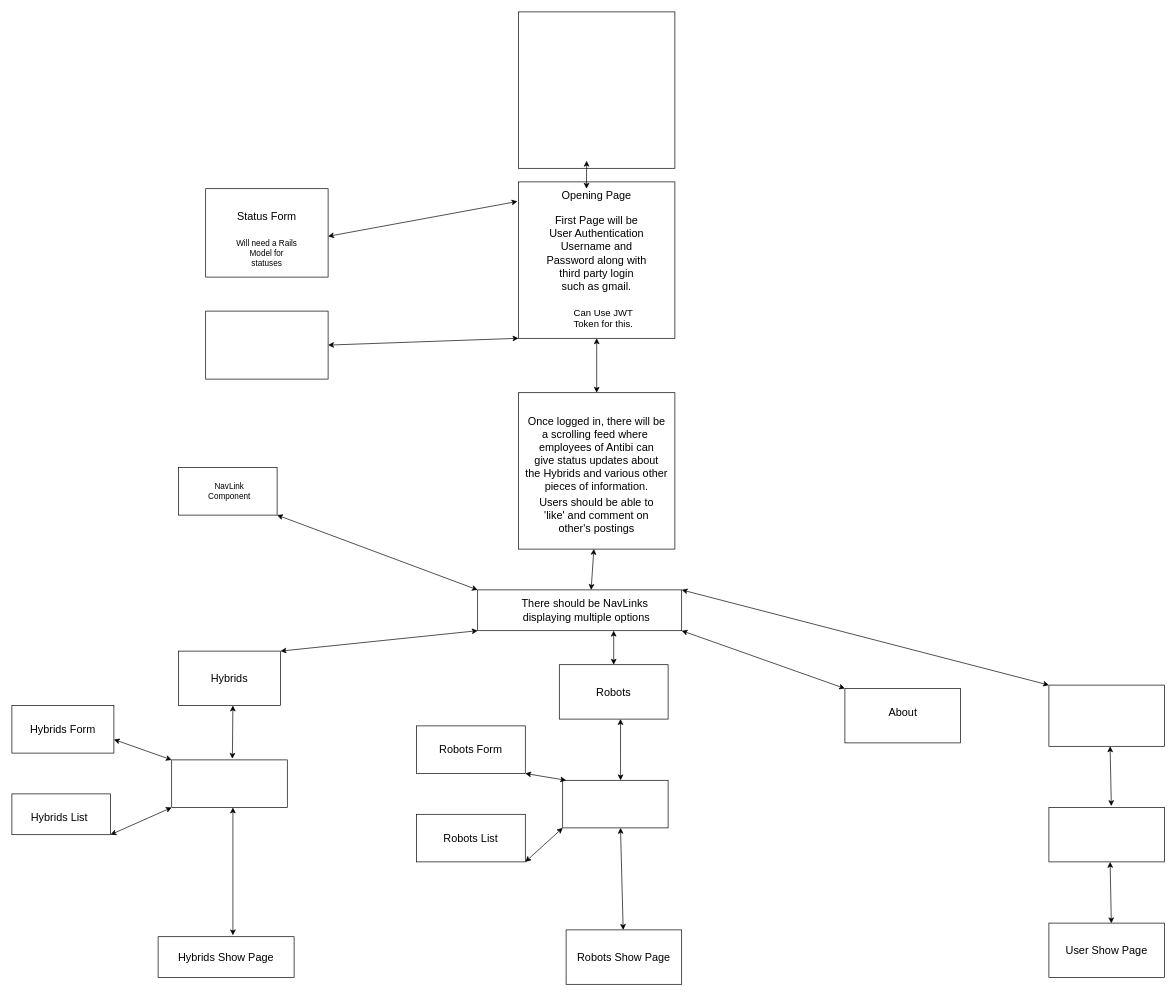
Image size: 1176x996. Some labels were removed from this diagram. Each missing label, with the centre of its shape:
"Antibi Hybrid Tracker" belongs at (596,89).
"Hybrids Index Page" belongs at (229,783).
"Robots Index Page" belongs at (615,804).
"Status List" belongs at (266,344).
"User Index" belongs at (1106,834).
"User Info" belongs at (1106,715).
